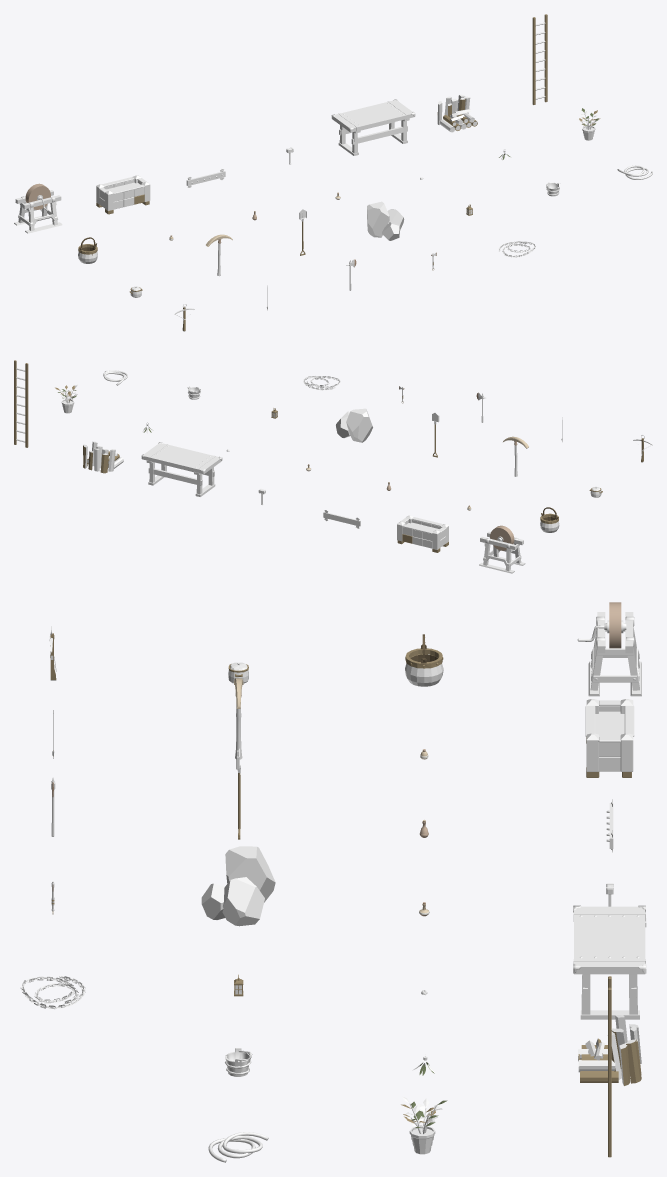
The model's file is props_int_oficios.glb.
The picture shows the model from 3 angles, top to bottom: view 1: azimuth 30°, elevation 25°; view 2: azimuth 150°, elevation 25°; view 3: azimuth 270°, elevation 25°; orthographic projection. The views are drawn at different scales.
Parts seen in each view (by area): view 1: PROP_Q_Workbench, PROP_AV_Water_Trough, PROP_Q_Whetstone, PROP_AV_Rocks, PROP_AV_Woodpile, PROP_AV_Village_Ladder; view 2: PROP_Q_Workbench, PROP_AV_Water_Trough, PROP_Q_Whetstone, PROP_AV_Rocks, PROP_AV_Woodpile, PROP_AV_Village_Ladder, PROP_AV_Cauldron, PROP_AV_Pottedplant; view 3: PROP_Q_Workbench, PROP_AV_Rocks, PROP_AV_Water_Trough, PROP_Q_Whetstone, PROP_AV_Woodpile, PROP_AV_Cauldron, PROP_AV_Pottedplant, PROP_Q_Chain_Coil, PROP_Q_Rope_2.
Boxes of the visible parts, left/top/right/bottom form: PROP_Q_Workbench: left=331, top=99, right=415, bottom=155; PROP_AV_Water_Trough: left=96, top=175, right=150, bottom=214; PROP_Q_Whetstone: left=14, top=183, right=62, bottom=233; PROP_AV_Rocks: left=367, top=201, right=404, bottom=240; PROP_AV_Woodpile: left=437, top=94, right=477, bottom=132; PROP_AV_Village_Ladder: left=532, top=14, right=547, bottom=104; PROP_Q_Workbench: left=141, top=442, right=222, bottom=496; PROP_AV_Water_Trough: left=397, top=515, right=448, bottom=552; PROP_Q_Whetstone: left=479, top=525, right=525, bottom=573; PROP_AV_Rocks: left=336, top=408, right=372, bottom=442; PROP_AV_Woodpile: left=83, top=441, right=123, bottom=473; PROP_AV_Village_Ladder: left=14, top=360, right=28, bottom=447; PROP_AV_Cauldron: left=540, top=507, right=559, bottom=532; PROP_AV_Pottedplant: left=55, top=385, right=77, bottom=413; PROP_Q_Workbench: left=573, top=905, right=646, bottom=1019; PROP_AV_Rocks: left=201, top=846, right=275, bottom=926; PROP_AV_Water_Trough: left=585, top=699, right=634, bottom=777; PROP_Q_Whetstone: left=577, top=602, right=641, bottom=696; PROP_AV_Woodpile: left=578, top=1015, right=641, bottom=1085; PROP_AV_Cauldron: left=405, top=634, right=443, bottom=686; PROP_AV_Pottedplant: left=401, top=1097, right=447, bottom=1154; PROP_Q_Chain_Coil: left=20, top=976, right=85, bottom=1009; PROP_Q_Rope_2: left=208, top=1132, right=268, bottom=1162.
Size of what is drawn, in the model's own units: 16.57 by 2.6 by 8.77.
Materials: 30 (25 with a texture image).
